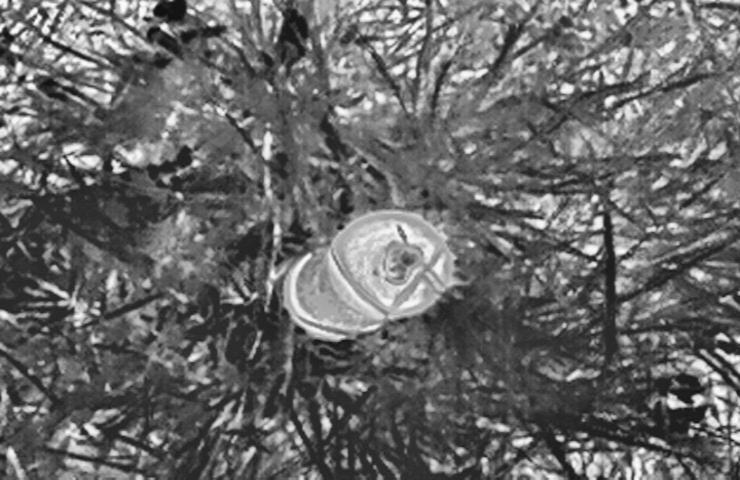landmines: (276, 197, 464, 369)
